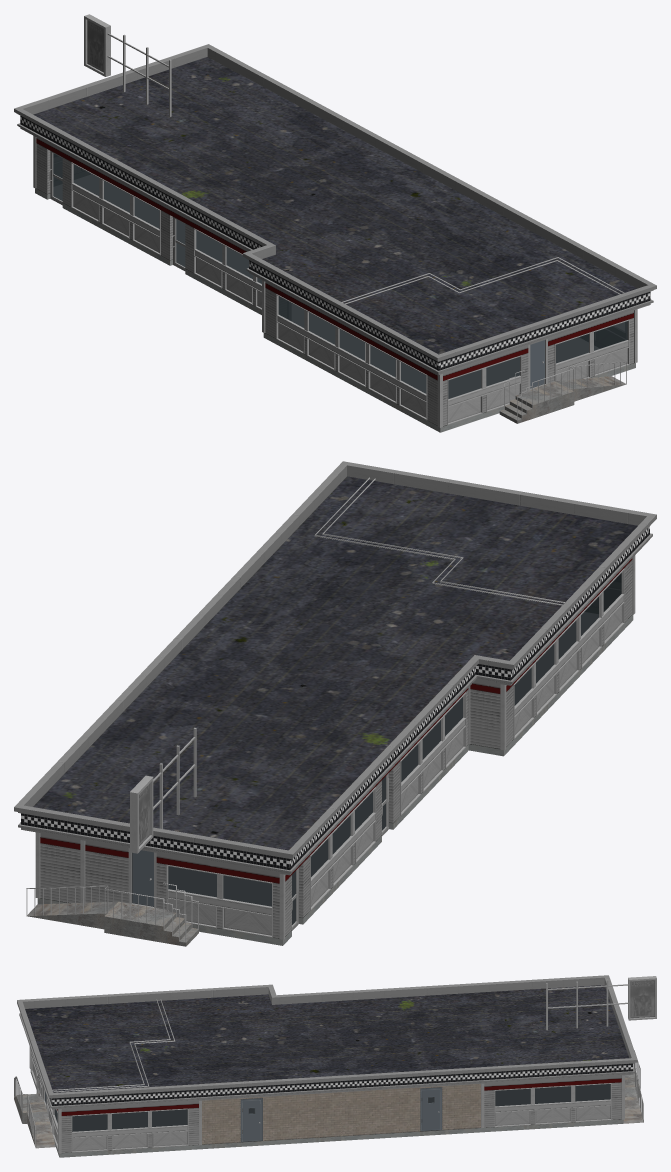
The model's file is diner.glb.
The picture shows the model from 3 angles, top to bottom: view 1: azimuth 30°, elevation 25°; view 2: azimuth 150°, elevation 25°; view 3: azimuth 270°, elevation 25°; orthographic projection. The views are drawn at different scales.
Parts seen in each view (by area): view 1: Component#35_001, [206]_19 - Glass (Thin wall)_0; view 2: Component#35_001, [206]_19 - Glass (Thin wall)_0; view 3: Component#35_001, [206]_19 - Glass (Thin wall)_0.
Boxes of the visible parts, left/top/right/bottom form: Component#35_001: left=14, top=14, right=656, bottom=432; [206]_19 - Glass (Thin wall)_0: left=53, top=153, right=627, bottom=398; Component#35_001: left=14, top=461, right=656, bottom=946; [206]_19 - Glass (Thin wall)_0: left=168, top=573, right=621, bottom=924; Component#35_001: left=14, top=975, right=656, bottom=1157; [206]_19 - Glass (Thin wall)_0: left=54, top=1084, right=610, bottom=1131.
Size of the model in its own units: 16.9 by 7.02 by 38.22.
Materials: 2 (1 with a texture image).
